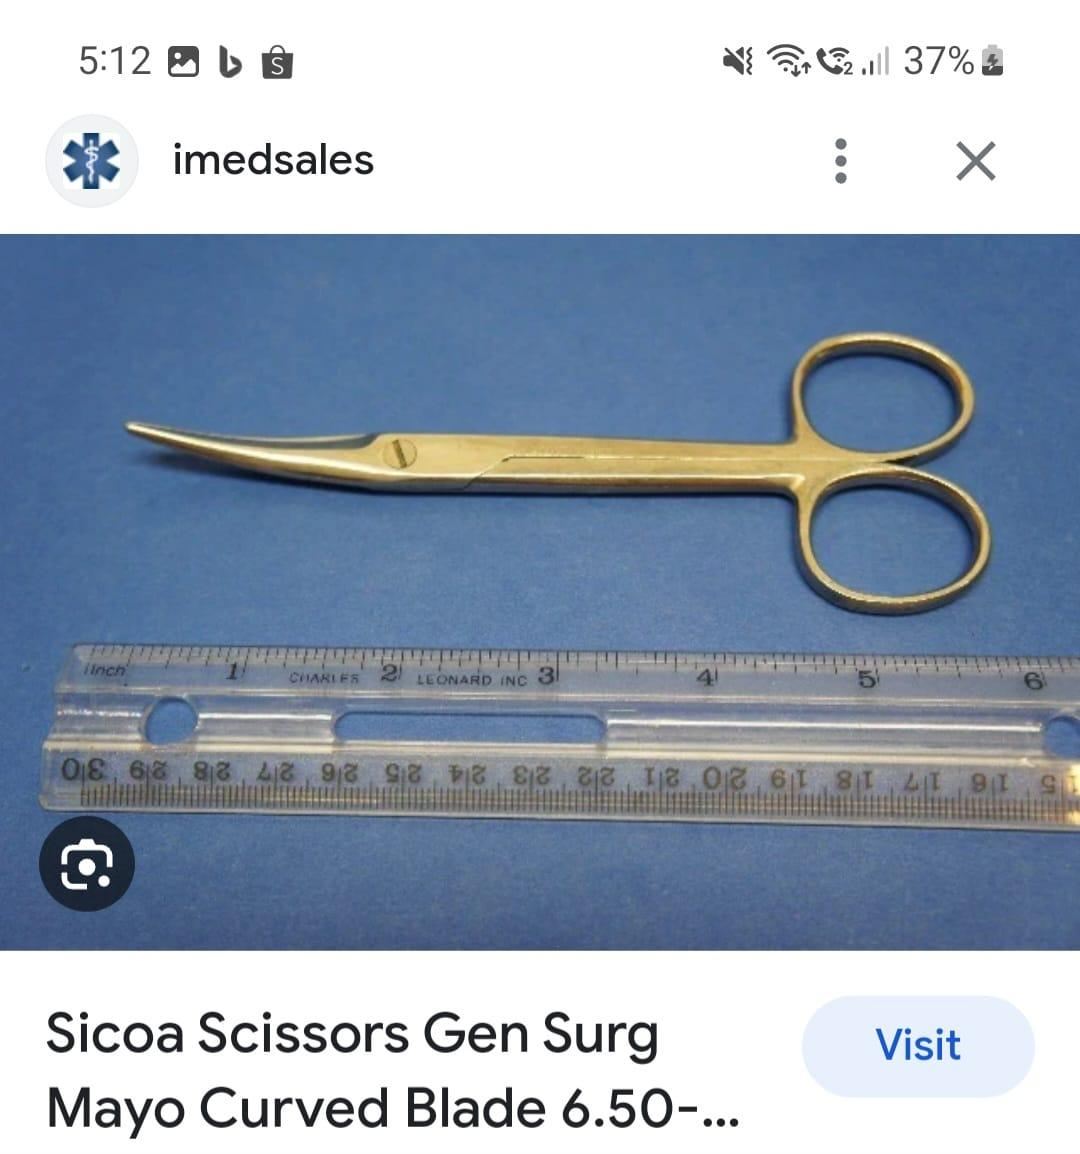Curved Mayo: (119, 330, 985, 617)
